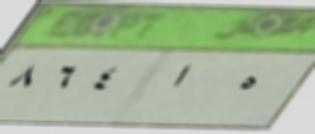4: (94, 65, 116, 95)
6: (55, 63, 77, 93)
8: (9, 65, 37, 92)
alif: (170, 62, 192, 90)
haa: (236, 65, 258, 102)
